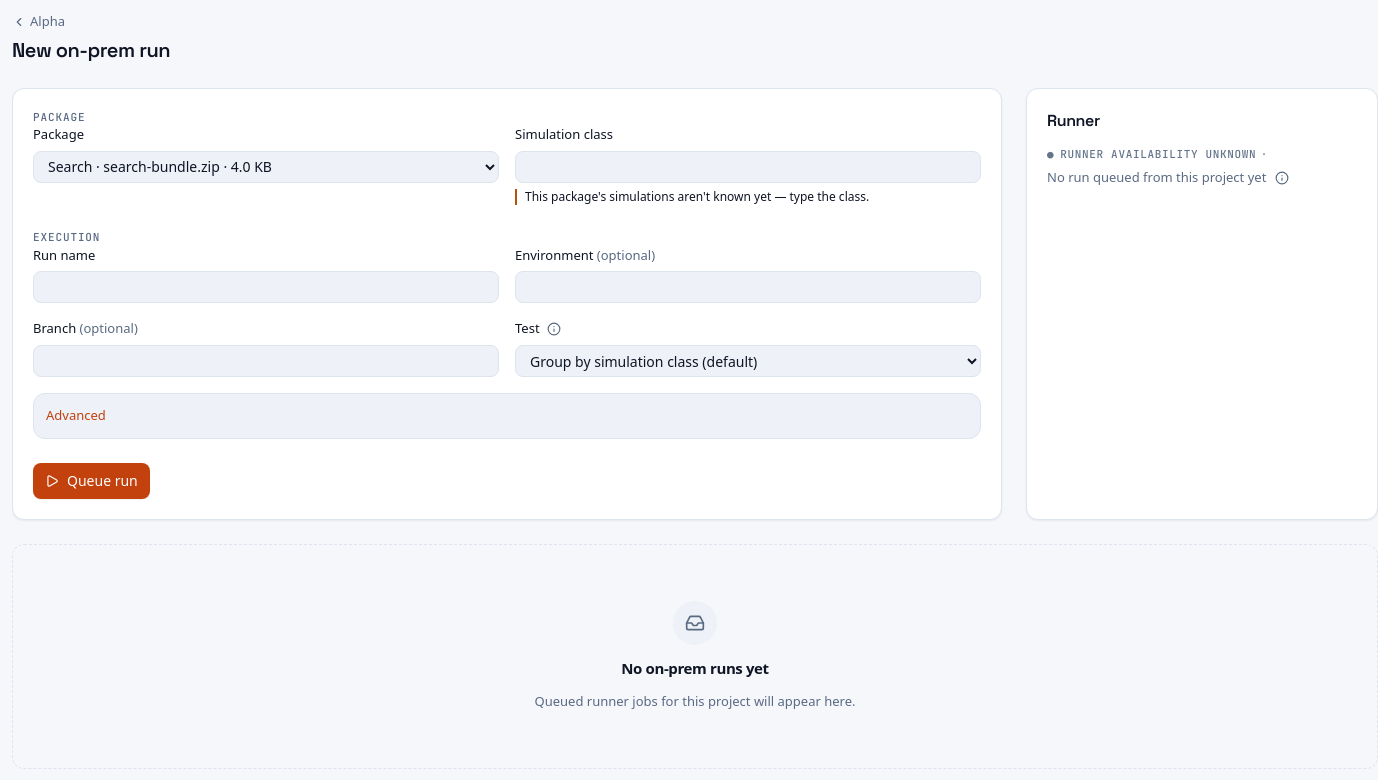
Scenario: NewRunnerRun — starting from a package › lists the chosen package's simulations as a dropdown
The width and height of the screenshot is (1378, 780).
Select "Checkout · gatling-gradle-plugin-demo-kotlin-main-tests.jar · 1.8 MB · Gatling 3" in the dropdown labelled "Package" at (266, 166), box [33,150,499,182]
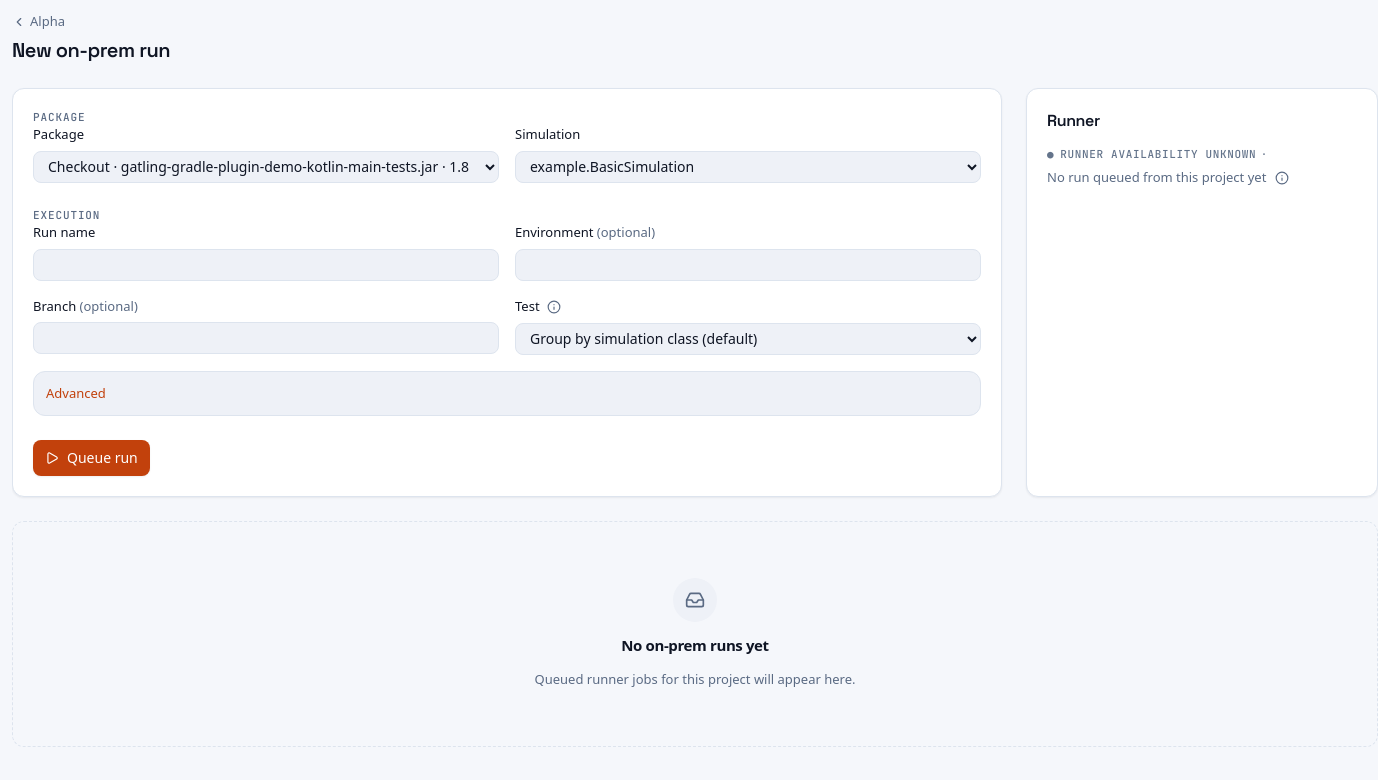
expect the dropdown labelled "Simulation" shows "example.BasicSimulation": met, box [515,150,981,182]
